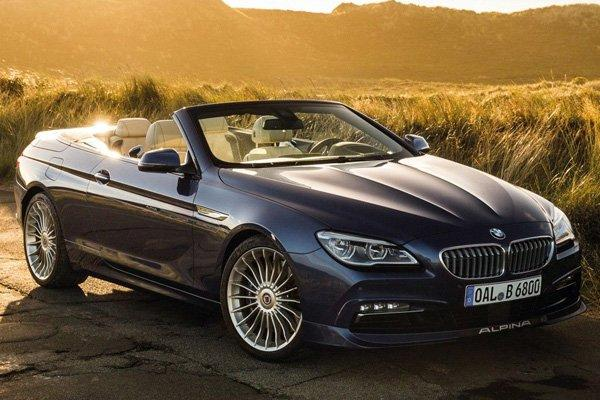car: (20, 94, 585, 364)
